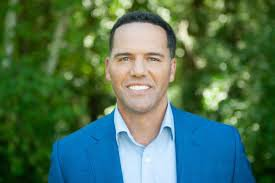noMask: (102, 14, 192, 115)
